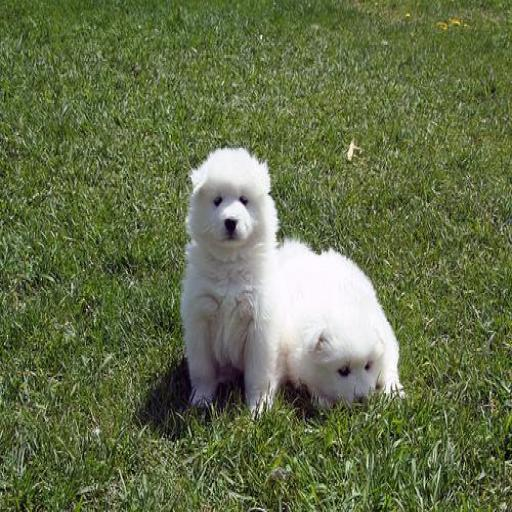dog_face: (305, 304, 390, 414), (186, 153, 270, 249)
